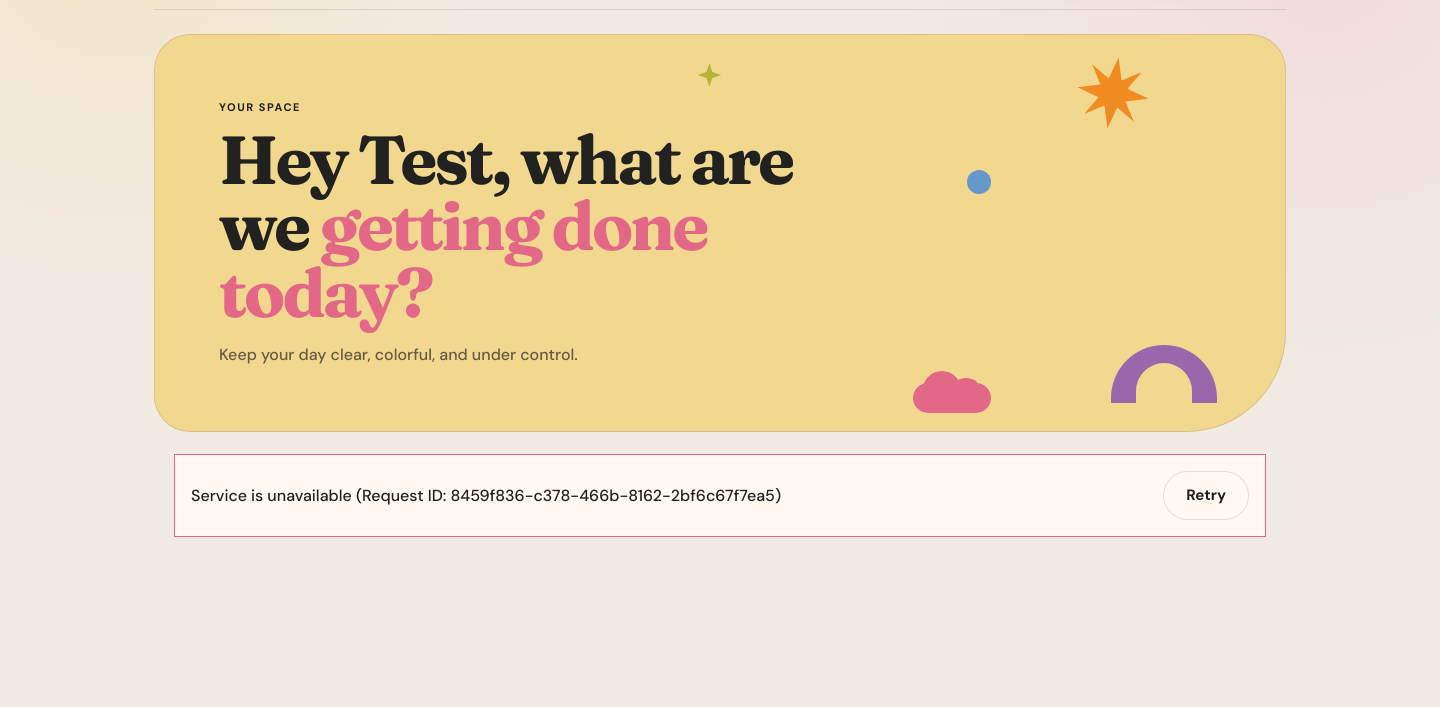
it: retries a failed bootstrap request
Expected: the message shows "Service is unavailable", [191, 485, 781, 506]
Click the button "Retry": [1206, 496] box [1163, 471, 1249, 520]
(page scrolled)
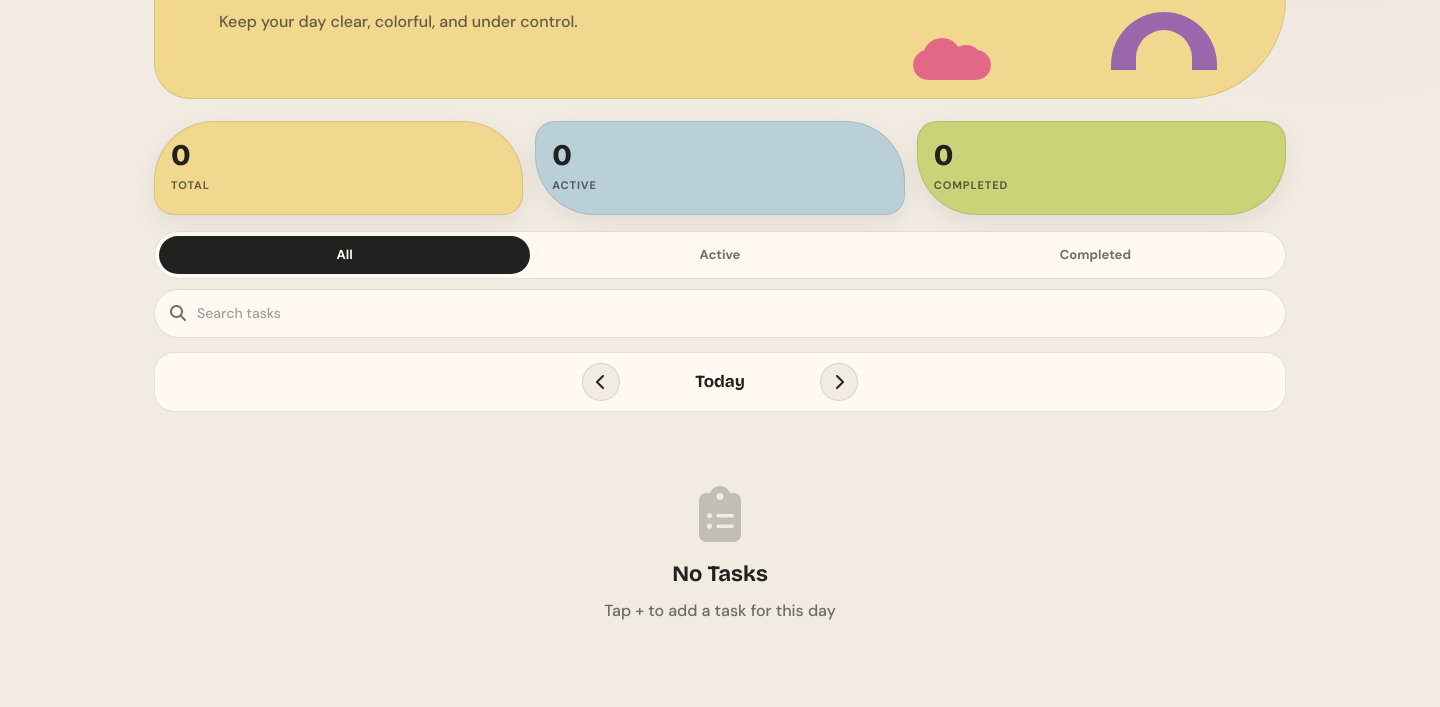
Now the heading "No Tasks" is shown, box [672, 561, 768, 587]
